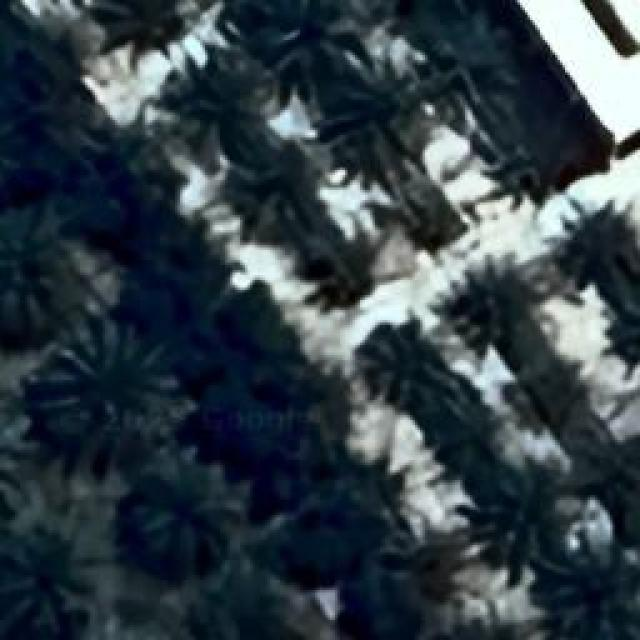PalmTree: (40, 65, 618, 326), (46, 338, 172, 446), (130, 476, 238, 569), (0, 212, 82, 329), (338, 82, 432, 180), (13, 124, 40, 461), (0, 530, 82, 640), (175, 62, 273, 148), (226, 0, 332, 70), (448, 266, 542, 344), (89, 0, 204, 62), (290, 456, 376, 538), (482, 476, 562, 559), (361, 324, 441, 404), (202, 577, 301, 640), (555, 567, 640, 640), (413, 0, 519, 57), (88, 142, 158, 225), (242, 159, 316, 229), (486, 134, 552, 212), (396, 180, 454, 260), (512, 359, 578, 424), (428, 405, 496, 465), (316, 248, 374, 318), (412, 53, 479, 108), (0, 92, 32, 195), (587, 222, 640, 279), (596, 440, 640, 504), (422, 617, 532, 640), (0, 408, 19, 522), (0, 98, 21, 193), (420, 624, 536, 640)
